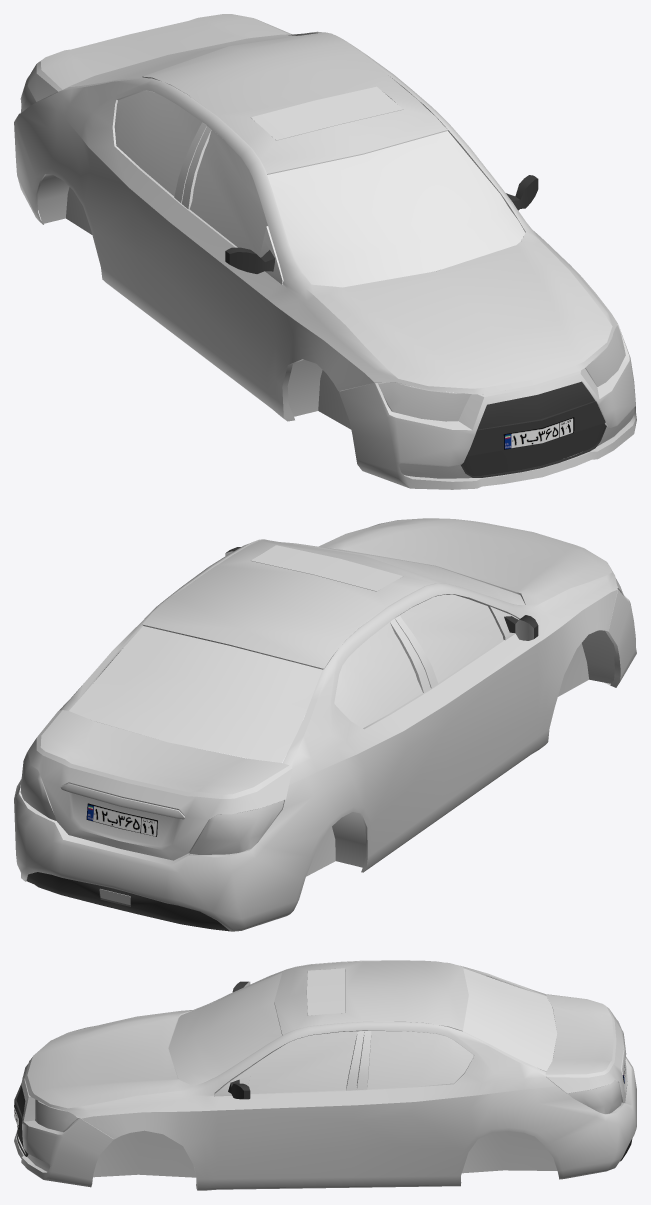
Rendered from Dena.fbx.
3 renders of one model, top to bottom at view 1: azimuth 30°, elevation 25°; view 2: azimuth 150°, elevation 25°; view 3: azimuth 270°, elevation 25°, orthographic. The views are drawn at different scales.
Visible parts, largest first — view 1: Dena; view 2: Dena; view 3: Dena.
Boxes of the visible parts, <box> form: Dena: <box>14,14,636,489</box>; Dena: <box>14,518,636,931</box>; Dena: <box>14,960,636,1190</box>.
Bounding box in the file's own units: 188 × 126 × 455.
